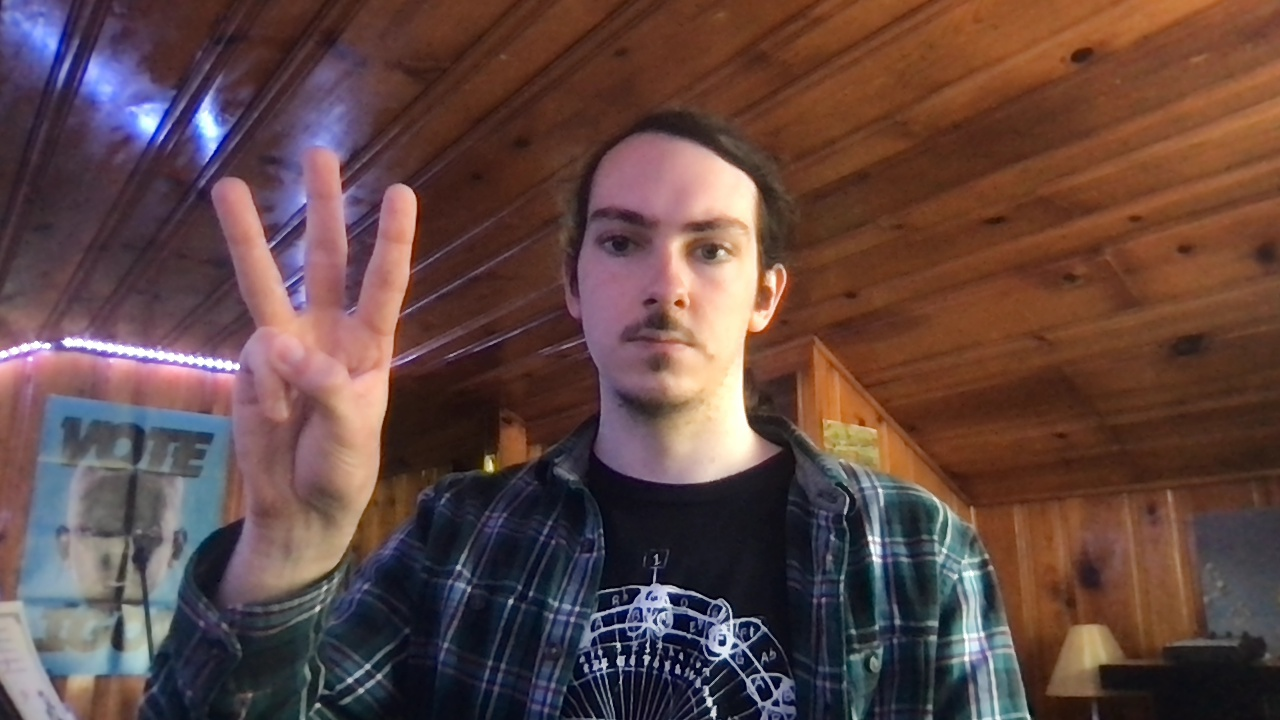w: (207, 144, 419, 526)
